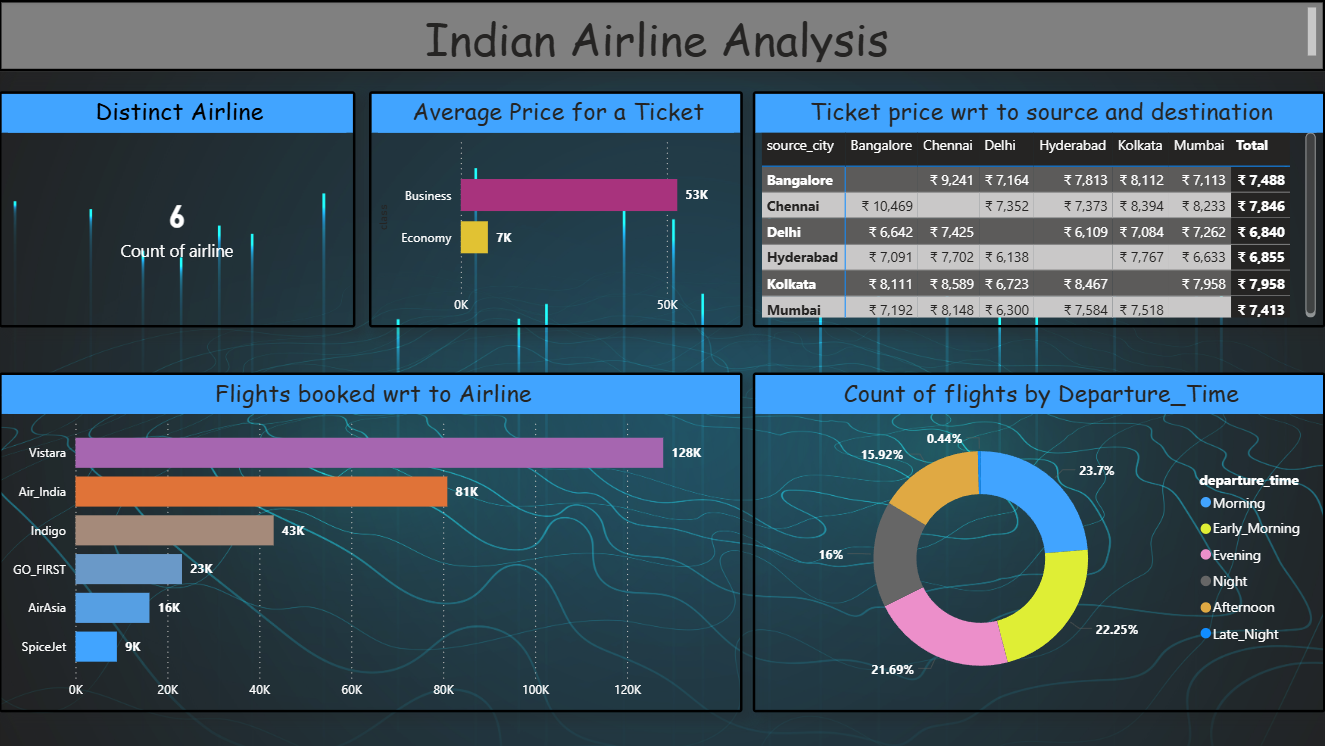

The page's visual inventory and layout, read from the dashboard file:
{"tool":"powerbi","page":{"name":"Page 1","canvas":[1280,720],"ordinal":0},"visuals":[{"type":"card","title":"Distinct Airline","fields":{"Values":["Count(Indian Airlines (1).airline)"]},"box":[0,88.1,343.8,228],"z":0},{"type":"clusteredBarChart","title":"Flights booked wrt to Airline ","fields":{"Category":["Indian Airlines (1).airline"],"Y":["CountNonNull(Indian Airlines (1).airline)"]},"box":[0,359.5,717.8,328.2],"z":1000},{"type":"barChart","title":"Average Price for a Ticket","fields":{"Category":["Indian Airlines (1).class"],"Y":["Avg(Indian Airlines (1).price)"]},"box":[357.1,88.1,360.7,228],"z":2000},{"type":"pivotTable","title":"Ticket price wrt to source and destination","fields":{"Columns":["Indian Airlines (1).destination_city"],"Values":["Median(Indian Airlines (1).price)"],"Rows":["Indian Airlines (1).source_city"]},"box":[727.5,88.1,552.5,228],"z":3000},{"type":"donutChart","title":"Count of flights by Departure_Time ","fields":{"Category":["Indian Airlines (1).departure_time"],"Y":["CountNonNull(Indian Airlines (1).departure_time)"]},"box":[727.5,359.5,552.5,328.2],"z":4000},{"type":"textbox","box":[0,0,1280,68.8],"z":5000}]}

Visuals, with their boxes in screenshot pixels (x1, y1, x2, y2), scaled from the page's 1280x720 canvas onto the 1325x746 screenshot:
"Distinct Airline" card: bbox=[0, 91, 356, 328]
"Flights booked wrt to Airline " clusteredBarChart: bbox=[0, 372, 743, 713]
"Average Price for a Ticket" barChart: bbox=[370, 91, 743, 328]
"Ticket price wrt to source and destination" pivotTable: bbox=[753, 91, 1324, 328]
"Count of flights by Departure_Time " donutChart: bbox=[753, 372, 1324, 713]
textbox: bbox=[0, 0, 1324, 71]
